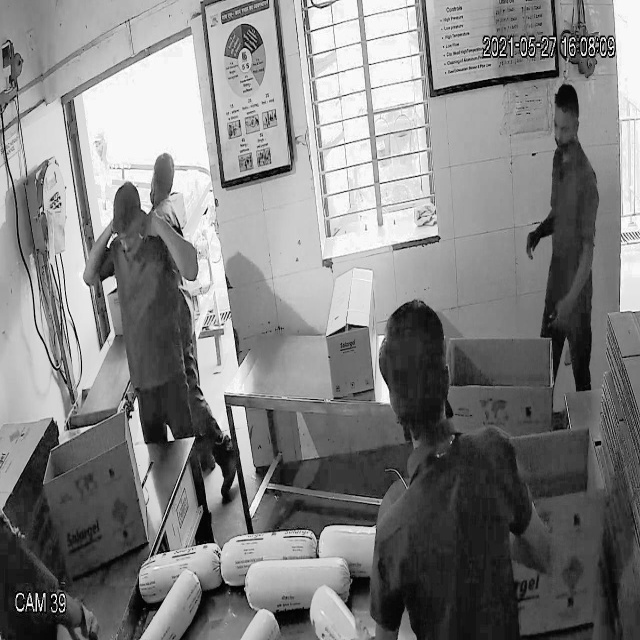Sin_gafas: (113, 220, 149, 252), (548, 112, 580, 140)
